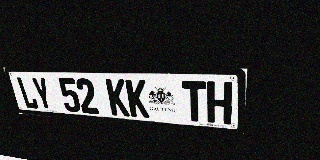2: (75, 78, 99, 114)
5: (58, 78, 82, 113)
H: (207, 81, 233, 124)
K: (125, 79, 150, 118), (105, 79, 130, 116)
L: (16, 77, 39, 109)
T: (182, 81, 206, 122)
Y: (30, 77, 54, 110)
